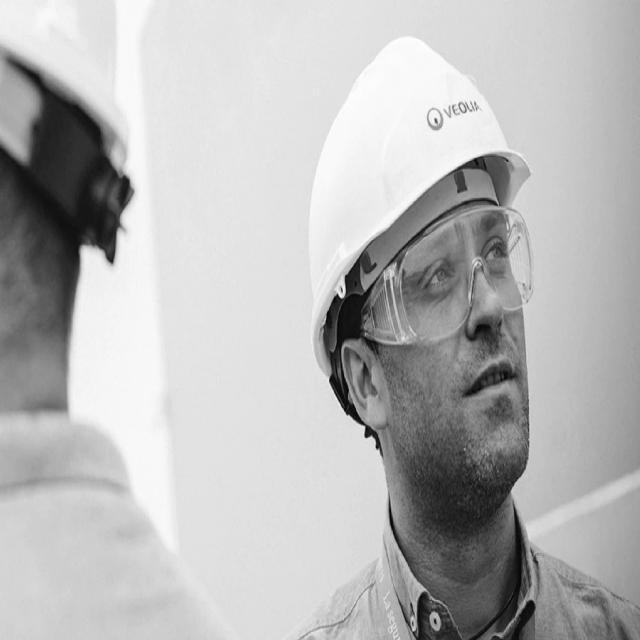safety_helmet: (308, 37, 531, 423)
